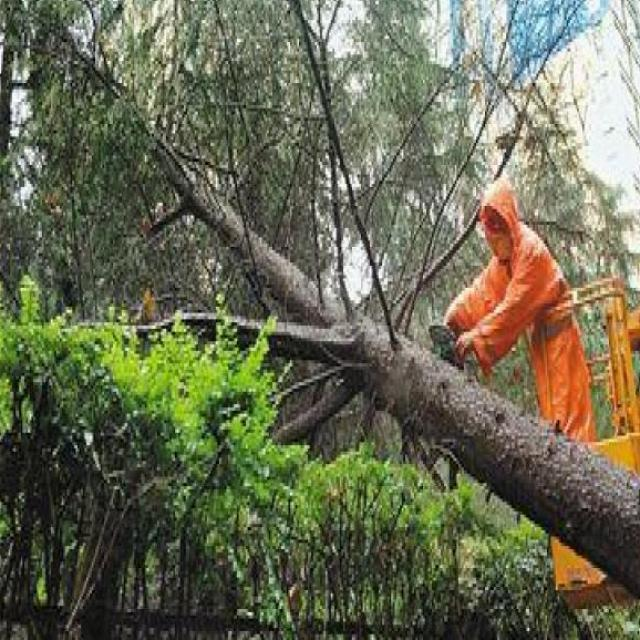fallen_object: (139, 125, 640, 632)
